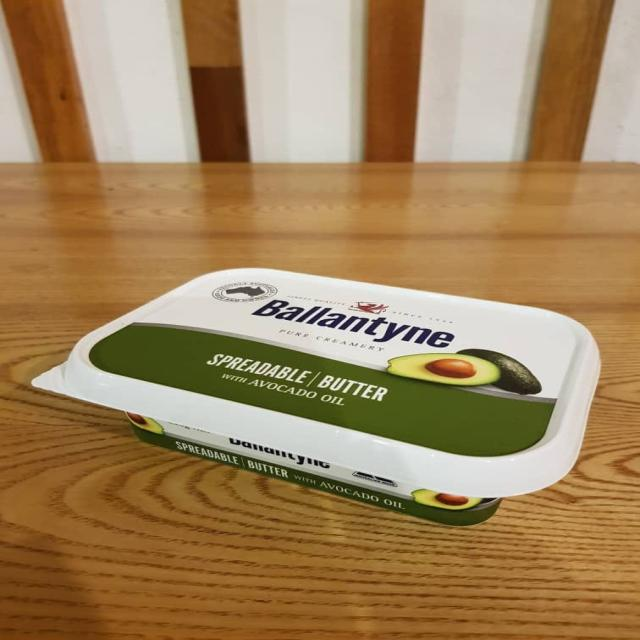plastic: (37, 259, 600, 537)
